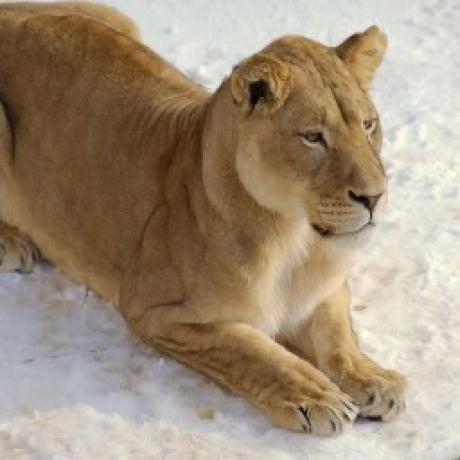Lion: (0, 0, 408, 438)
